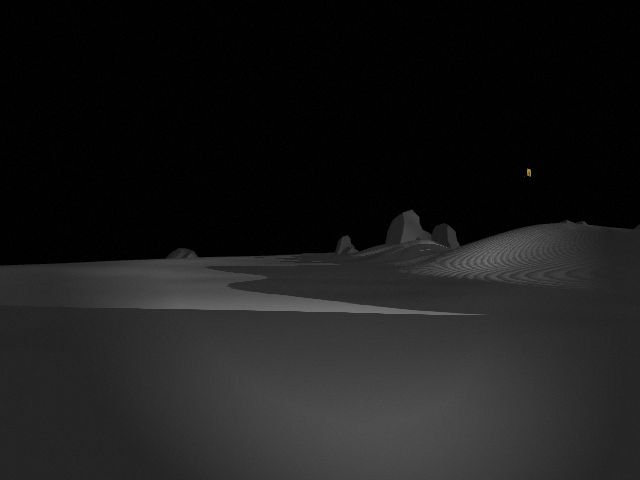cubesat: (522, 166, 534, 180)
